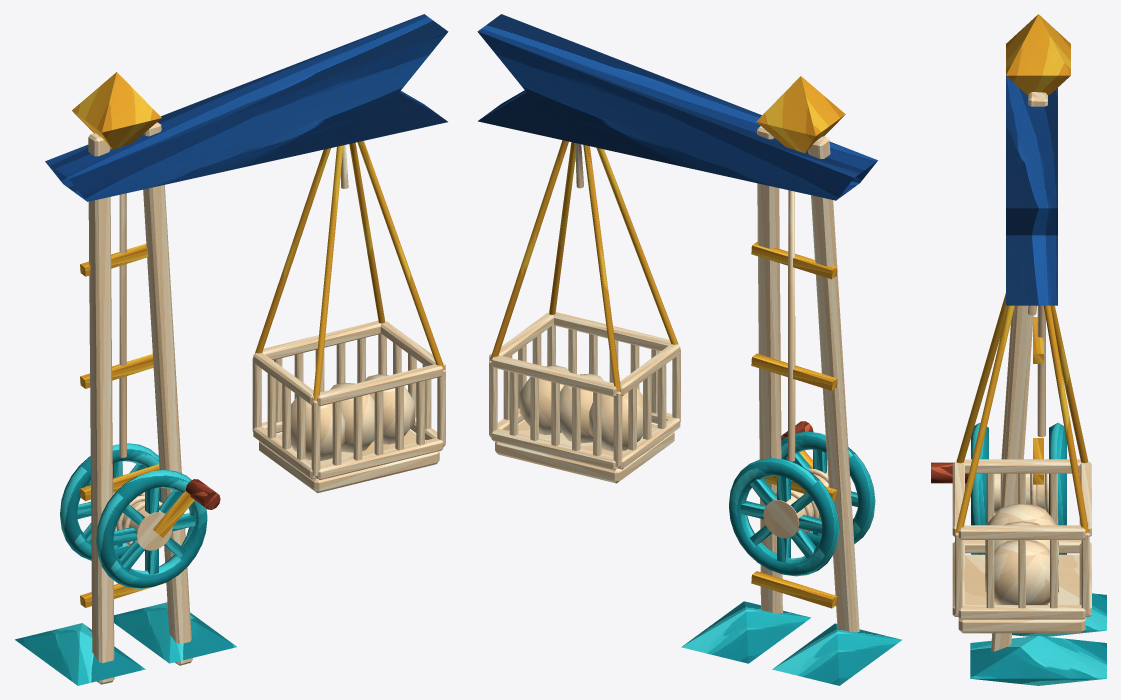
The model's file is 01_原神参考_赛璐璐.glb.
The picture shows the model from 3 angles, left to right: view 1: azimuth 30°, elevation 25°; view 2: azimuth 150°, elevation 25°; view 3: azimuth 270°, elevation 25°; orthographic projection. The views are drawn at different scales.
Visible parts, largest first — view 1: kite_dock; view 2: kite_dock; view 3: kite_dock.
Boxes of the visible parts, x1,y1,x2,y2 form: kite_dock: [15, 14, 448, 685]; kite_dock: [477, 14, 902, 685]; kite_dock: [931, 14, 1106, 685].
Size of the model in its own units: 1.48 by 2.18 by 0.54.
Materials: 2 (2 with a texture image).
